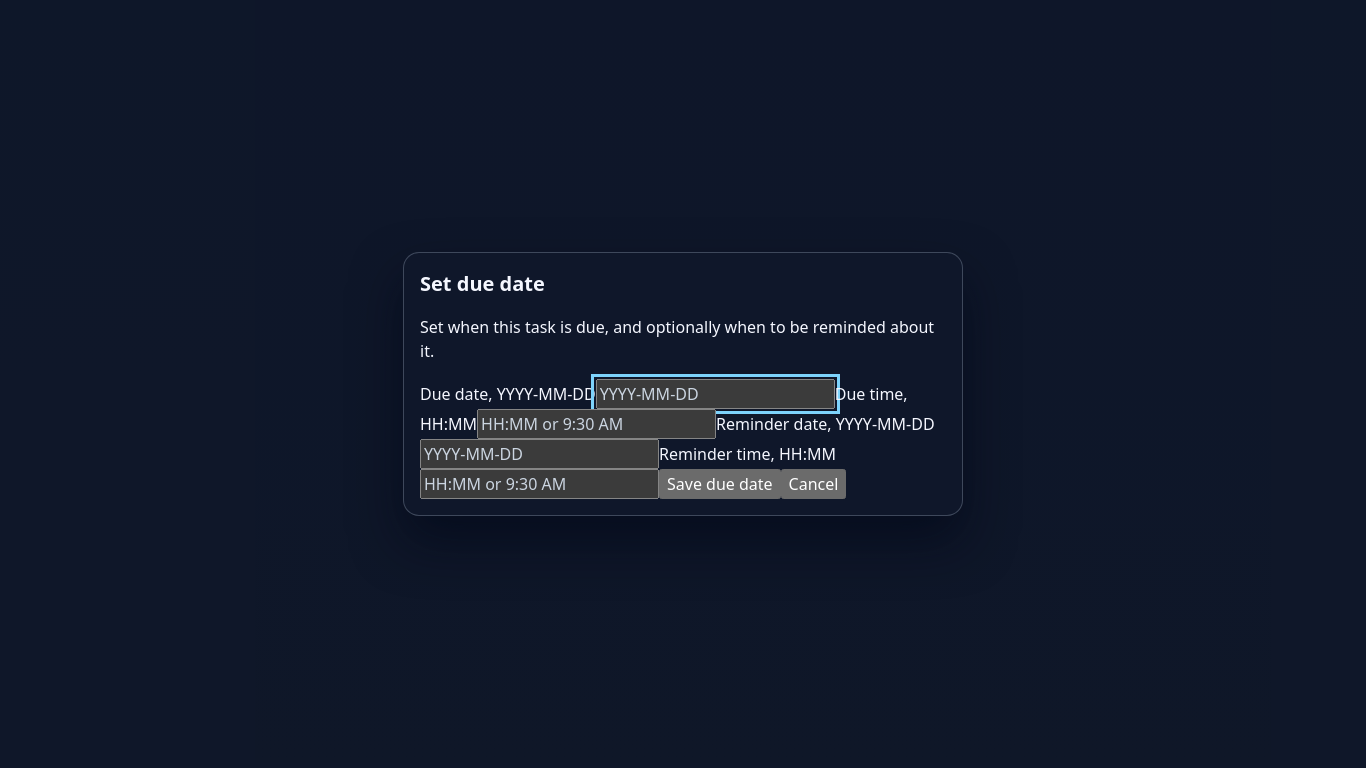
Scenario: task schedule dialog › refuses a reminder date without a reminder time instead of silently dropping it
The width and height of the screenshot is (1366, 768).
Type "2026-10-06" into the field labelled "Reminder date, YYYY-MM-DD".
click(540, 454); type("2026-10-06")  # box [420,439,659,469]
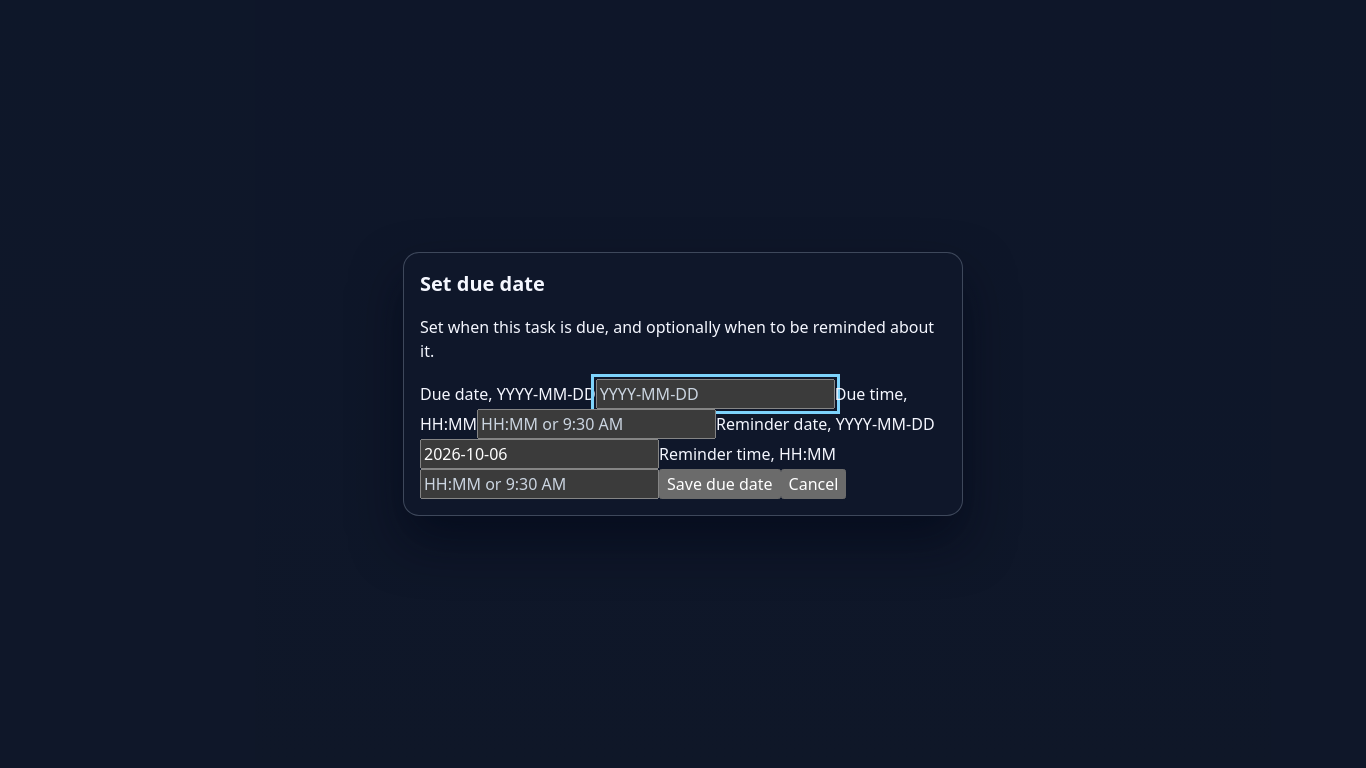
Click the button "Save due date".
click(720, 484)  # box [659,469,781,499]
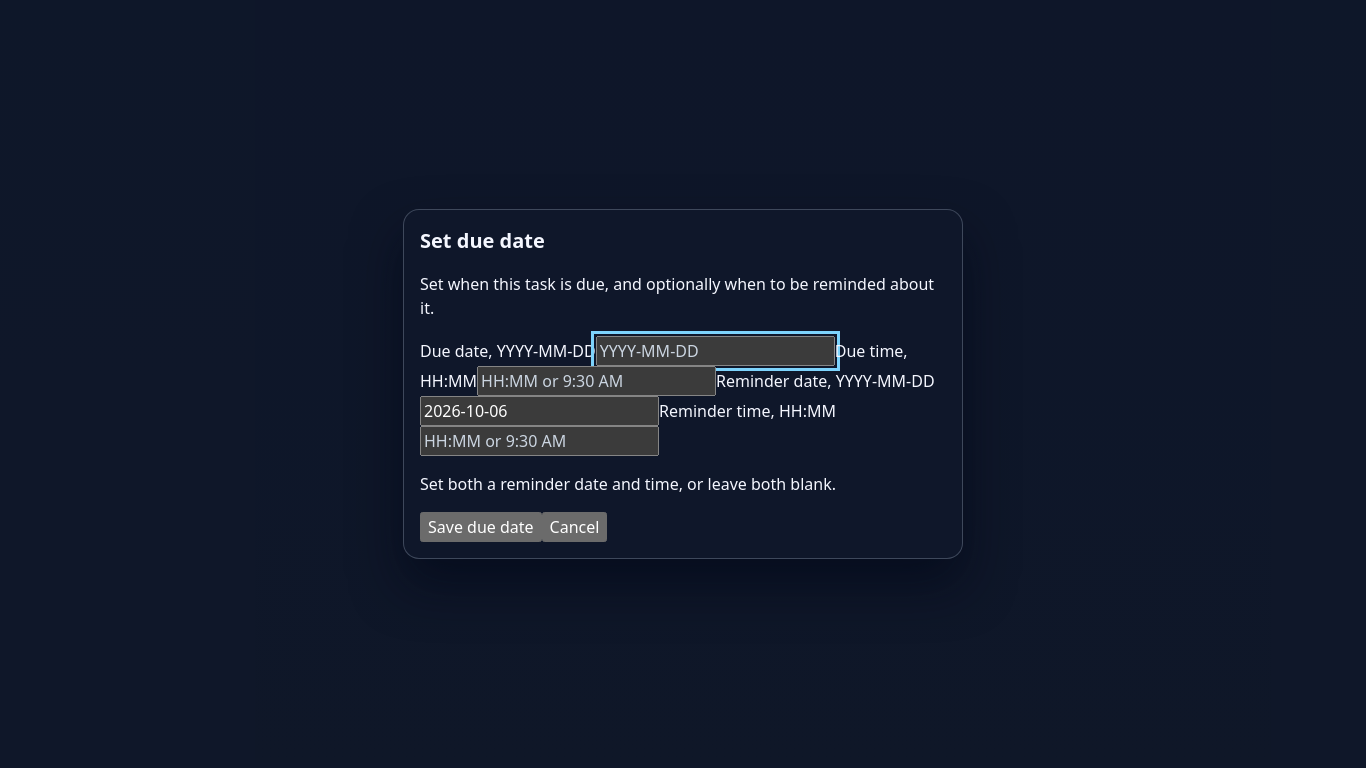
Expected: the message shows "Set both a reminder date and time", [420,473,836,495]
